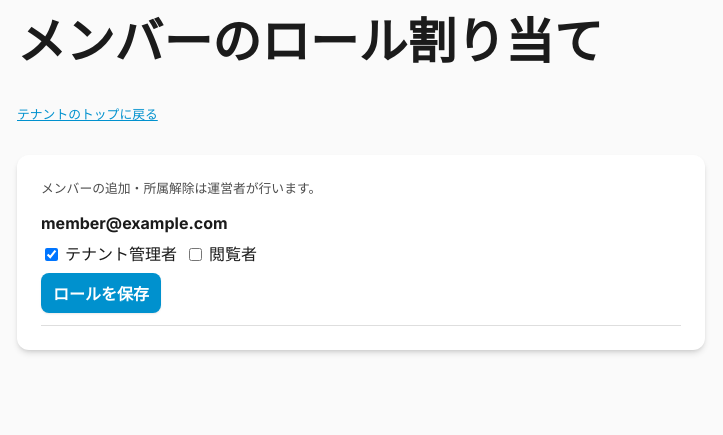
tenant members page › チェックを変更して保存するとPUTで送信する
This screenshot has width=723, height=435.
What coordinates should you click on to do the following:
click the checkbox named "member@example.com: 閲覧者"
I would click on:
 (196, 255)
Its box is [189,248,202,261].
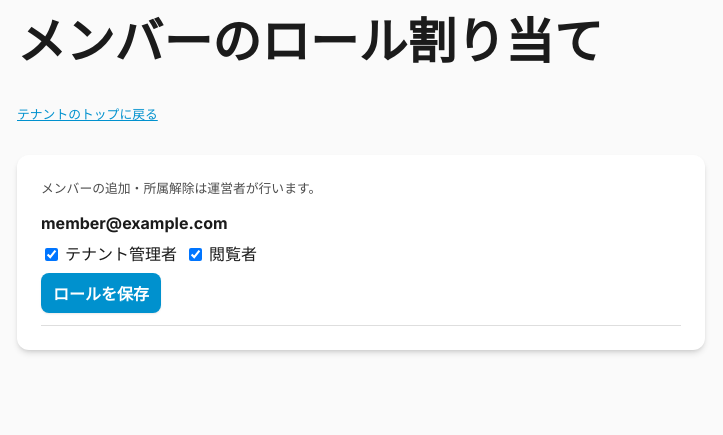
What coordinates should you click on to do the following:
click the button with aria-label "member@example.com のロールを保存"
I would click on:
 (101, 293)
Its box is [41,273,161,313].
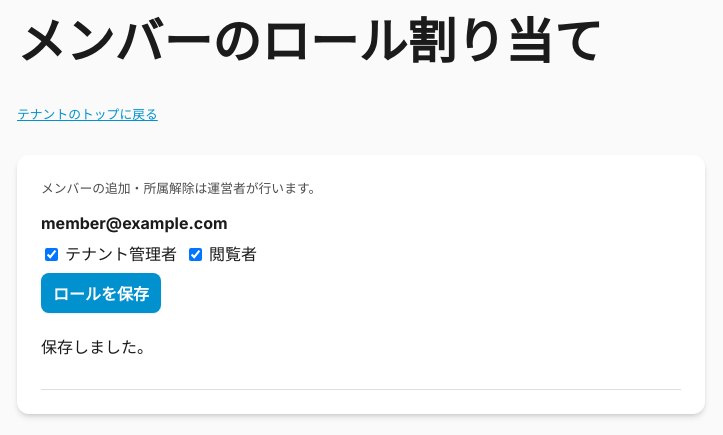
Expected: the message "保存しました。" is shown, [41,337,153,357]
